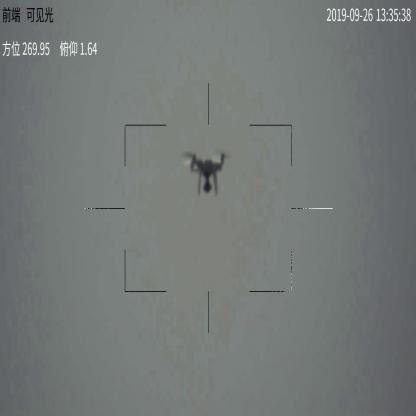uav: (186, 150, 235, 196)
